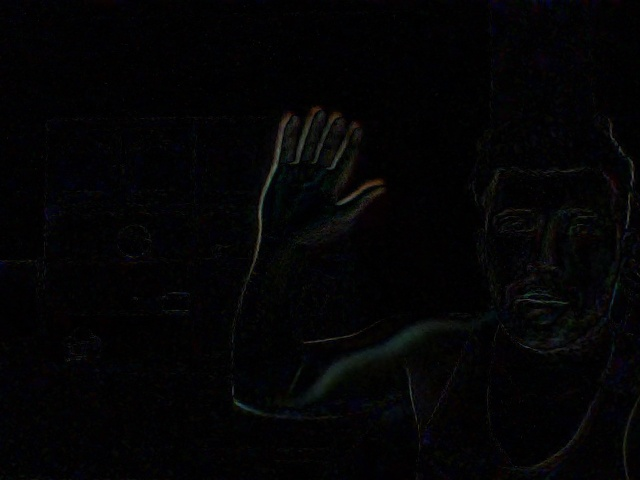arm_fo: (219, 101, 397, 418)
